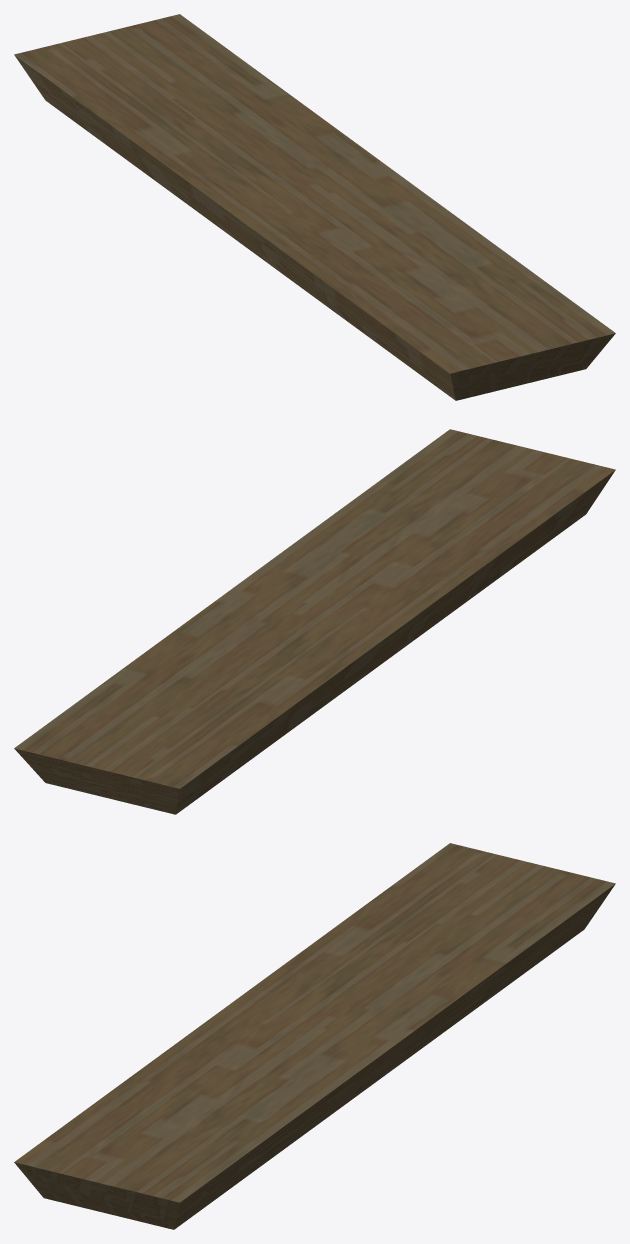
File: side-to-side-plat-lod1.glb
3 views of the same model, one above another, from view 1: azimuth 30°, elevation 25°; view 2: azimuth 150°, elevation 25°; view 3: azimuth 330°, elevation 25° (orthographic).
Visible parts, largest first — view 1: side-to-side-plat-lod1; view 2: side-to-side-plat-lod1; view 3: side-to-side-plat-lod1.
Part boxes in pixels (left/top/right/bottom): side-to-side-plat-lod1: left=14, top=14, right=615, bottom=400; side-to-side-plat-lod1: left=14, top=429, right=615, bottom=814; side-to-side-plat-lod1: left=14, top=843, right=615, bottom=1229.
Size of the model in its own units: 5.36 by 1.25 by 24.42.
1 material, 1 textured.
